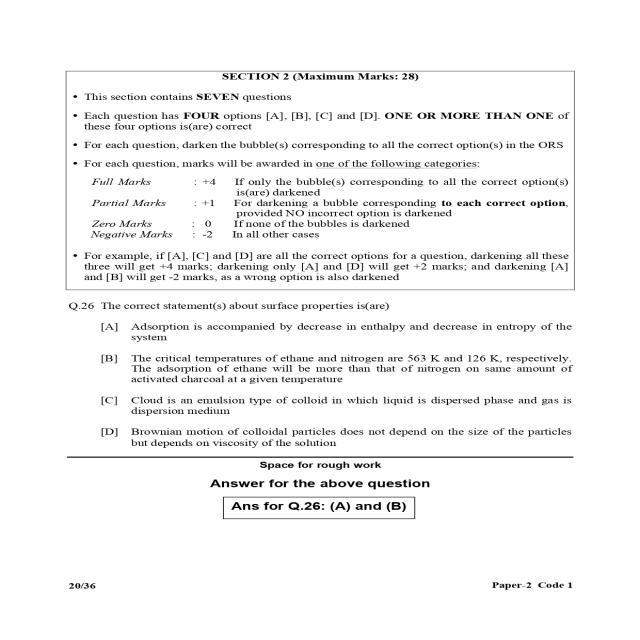Answer_Block: (41, 318, 609, 450)
Description: (41, 52, 609, 298), (41, 454, 609, 563)
Question_Answer_Block: (41, 298, 609, 452)
Question_Block: (41, 299, 609, 320)
Question_Paper_Area: (41, 53, 609, 563)
